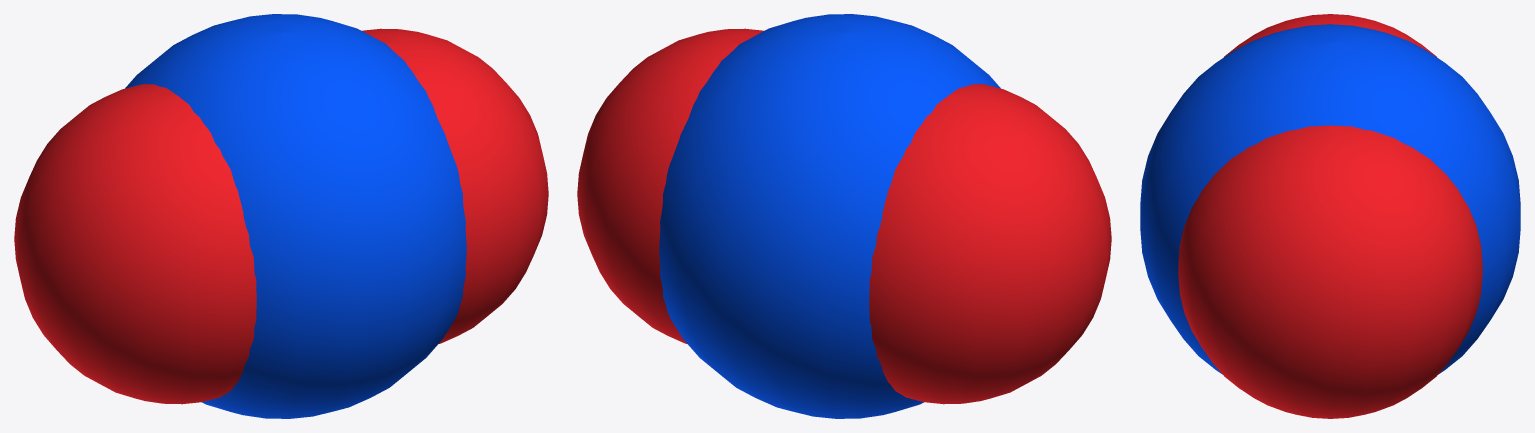
3 renders of one model, left to right at view 1: azimuth 30°, elevation 25°; view 2: azimuth 150°, elevation 25°; view 3: azimuth 270°, elevation 25°, orthographic. The views are drawn at different scales.
Visible parts, largest first — view 1: Сферы_Node (×3); view 2: Сферы_Node (×3); view 3: Сферы_Node (×3).
Boxes of the visible parts, x1,y1,x2,y2 form: Сферы_Node (×3): (14, 14, 548, 418); Сферы_Node (×3): (577, 14, 1111, 418); Сферы_Node (×3): (1140, 14, 1520, 418).
Size of the model in its own units: 2.2 by 1.57 by 1.56.
Materials: 2 (2 with a texture image).
